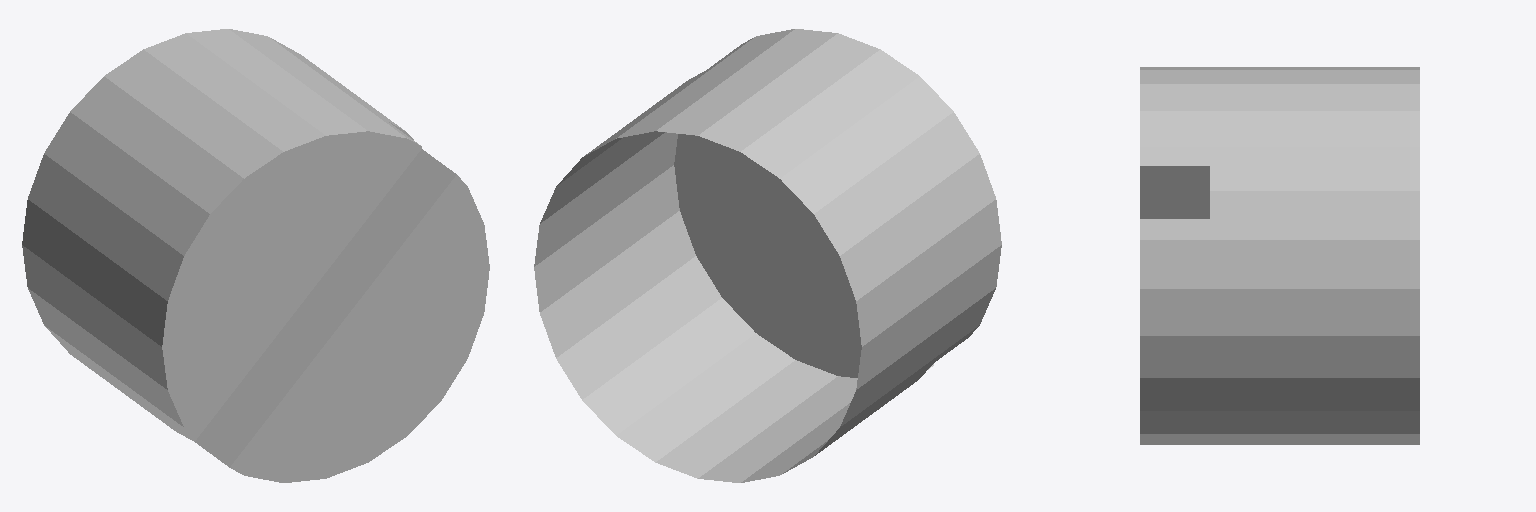
The model's file is original-2.obj.
3 views of the same model, side by side, from view 1: azimuth 30°, elevation 25°; view 2: azimuth 150°, elevation 25°; view 3: azimuth 270°, elevation 25° (orthographic).
Parts seen in each view (by area): view 1: #ID47; view 2: #ID47; view 3: #ID47.
Part boxes in pixels (left/top/right/bottom): #ID47: left=22, top=29, right=489, bottom=482; #ID47: left=534, top=29, right=1001, bottom=482; #ID47: left=1140, top=67, right=1419, bottom=444.
Bounding box in the file's own units: 0.0641 × 0.0641 × 0.0475.